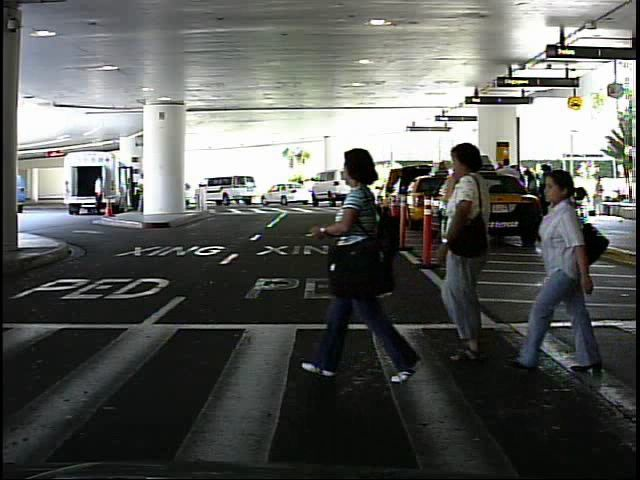person: (324, 135, 422, 387), (421, 138, 522, 367), (504, 172, 608, 379), (91, 170, 109, 220), (588, 172, 607, 218)
